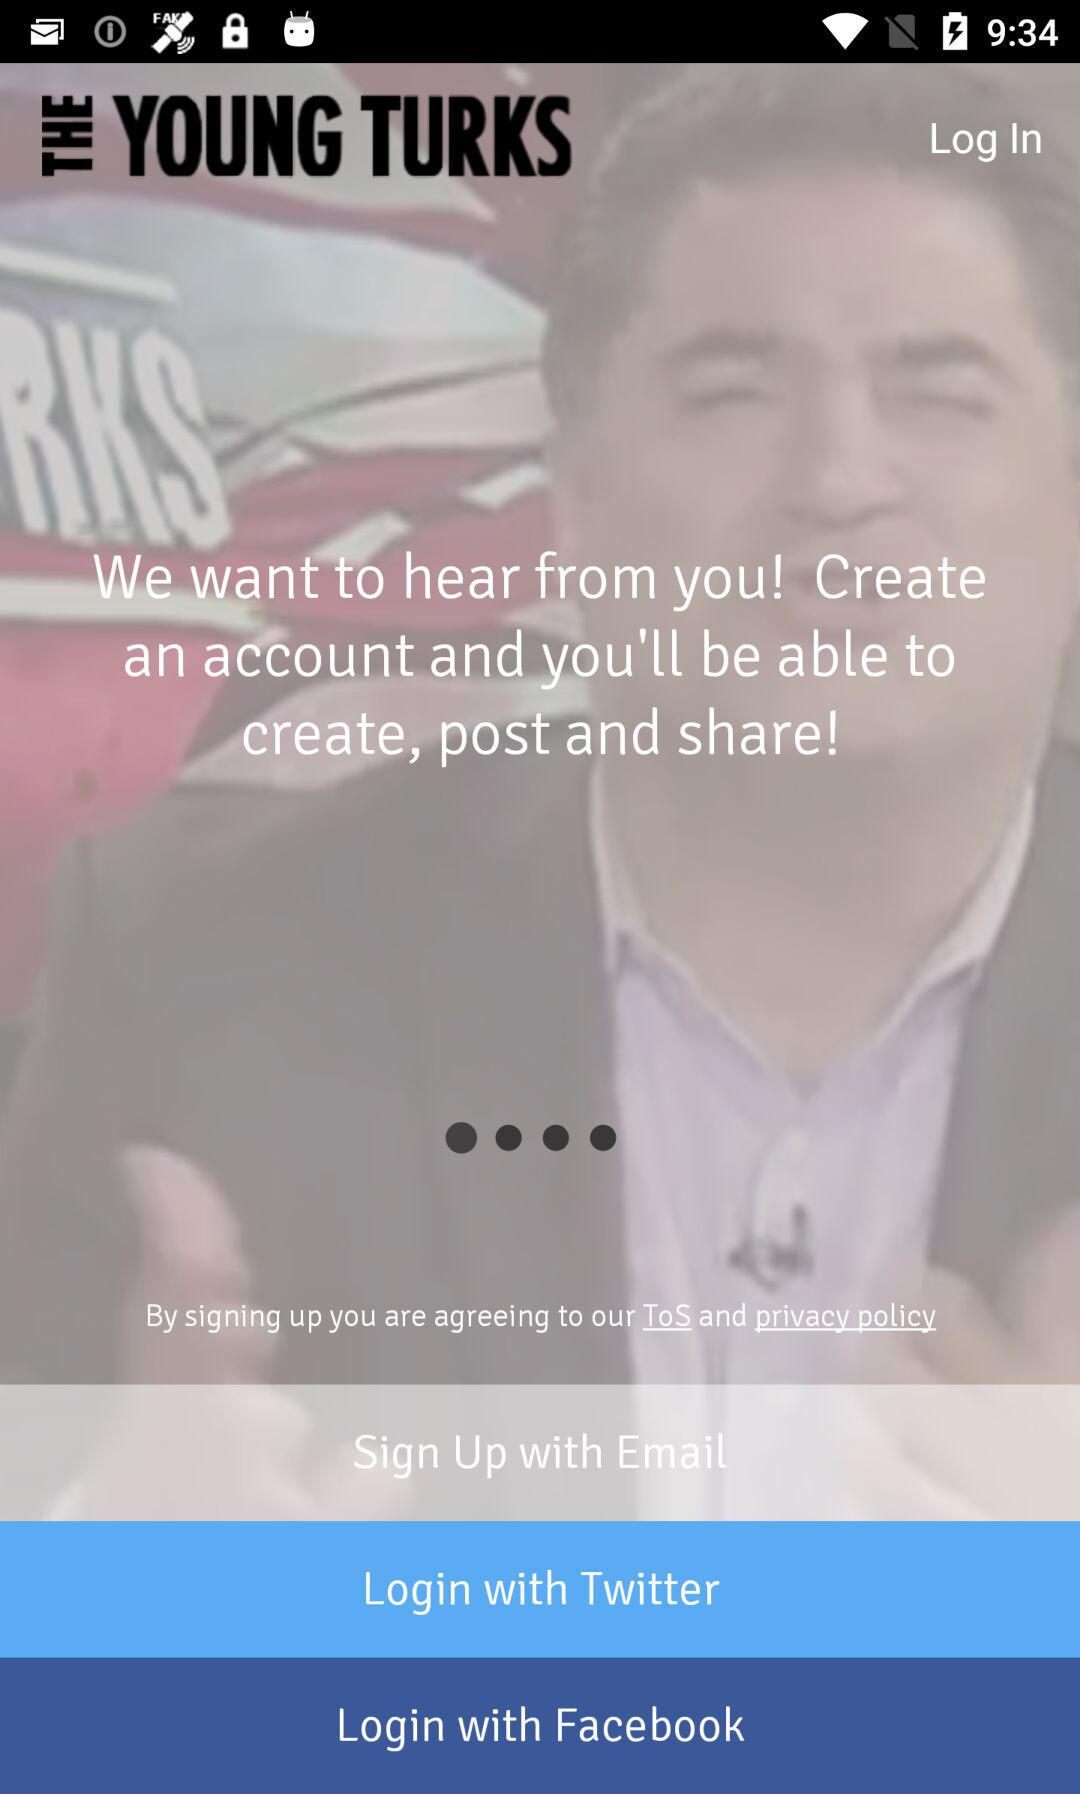BackgroundImage: (1, 64, 1080, 1384)
Image: (41, 94, 571, 178)
PageIndicator: (445, 1121, 618, 1155)
Text: (91, 550, 986, 769), (930, 122, 1042, 164)
TextButton: (1, 1384, 1080, 1522), (1, 1657, 1080, 1794), (1, 1522, 1080, 1657), (147, 1302, 938, 1337)
UpperTaskBar: (1, 1, 1080, 64)
